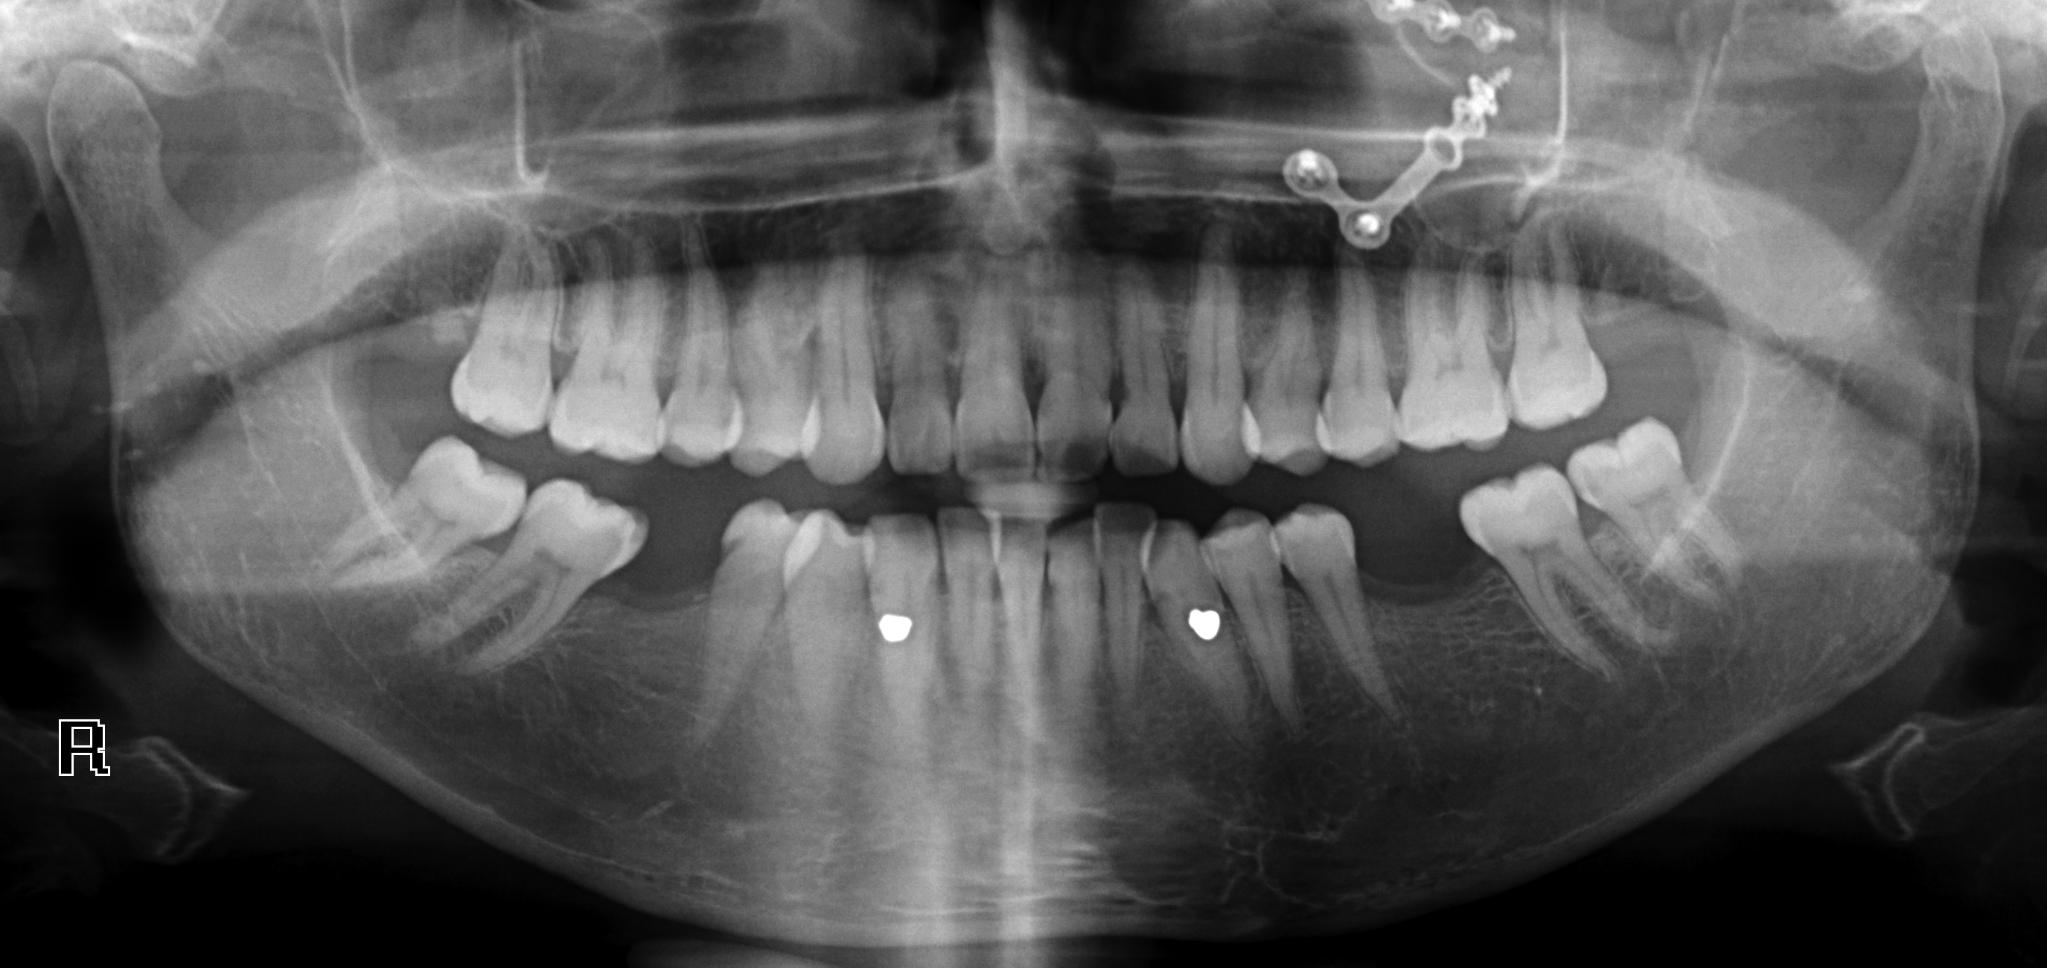Cavity: (1111, 277, 1181, 481)
Fillings: (432, 476, 640, 674), (1462, 466, 1653, 681)
Impacted Tooth: (315, 438, 521, 613)
